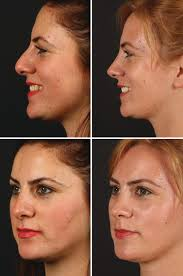n.blunt: (106, 52, 129, 79)
